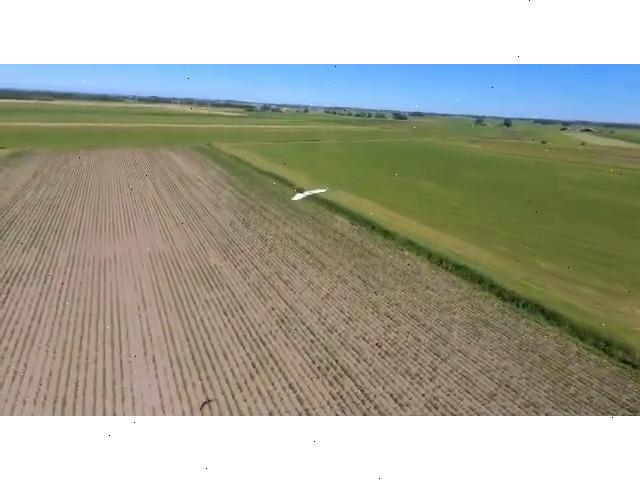Anti-Drone: (281, 175, 335, 213)
